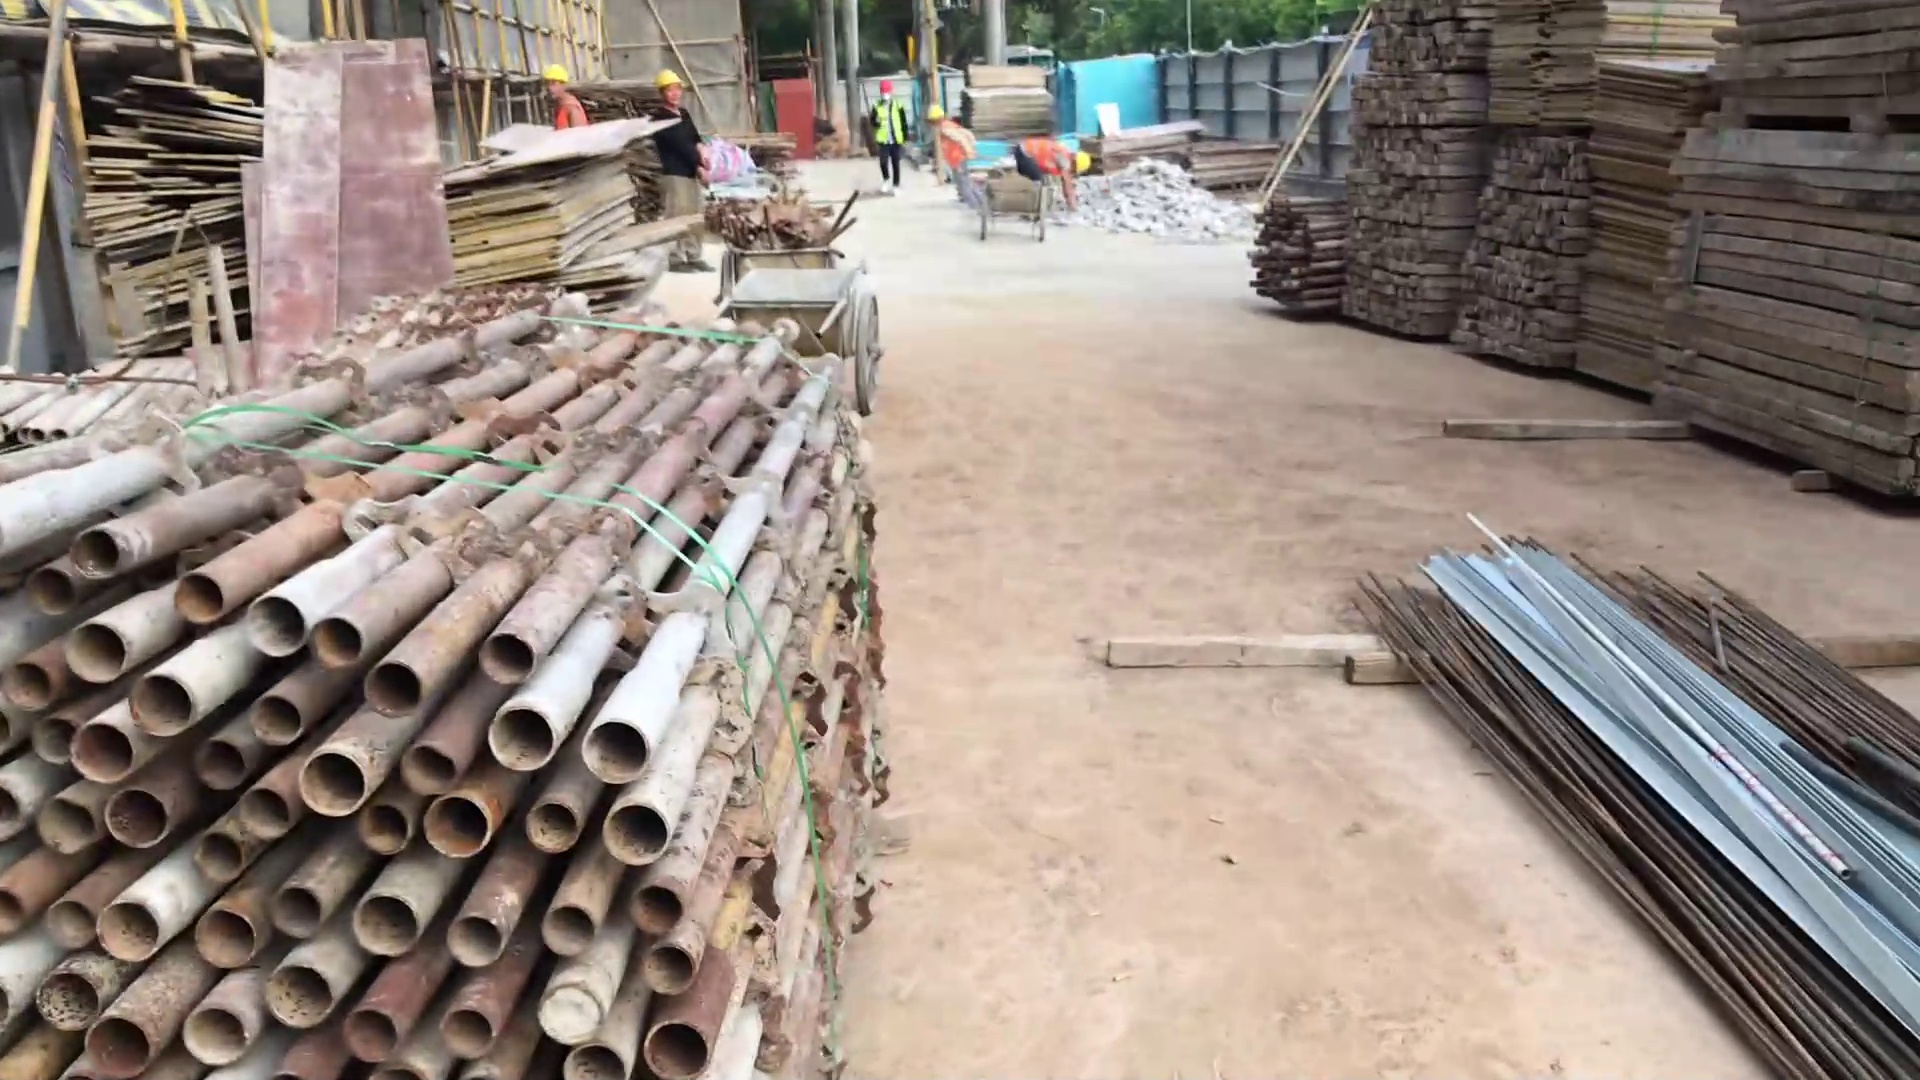board: (1565, 57, 1733, 416), (426, 105, 693, 300), (1485, 1, 1740, 138)
handcart: (720, 249, 892, 423), (975, 170, 1048, 249)
helmet: (539, 60, 575, 88), (919, 101, 952, 129), (655, 67, 685, 93), (1073, 141, 1092, 182), (872, 74, 898, 98)
person: (645, 65, 730, 282), (921, 98, 990, 226), (1010, 125, 1095, 224), (866, 73, 916, 199), (536, 58, 595, 138)
scaffold: (1, 302, 896, 1080)
vest: (1020, 134, 1074, 183), (935, 119, 980, 174), (870, 98, 909, 148), (549, 93, 588, 132)
wood: (1644, 75, 1920, 520), (1312, 119, 1503, 347), (1442, 127, 1606, 385), (1341, 1, 1502, 140)
